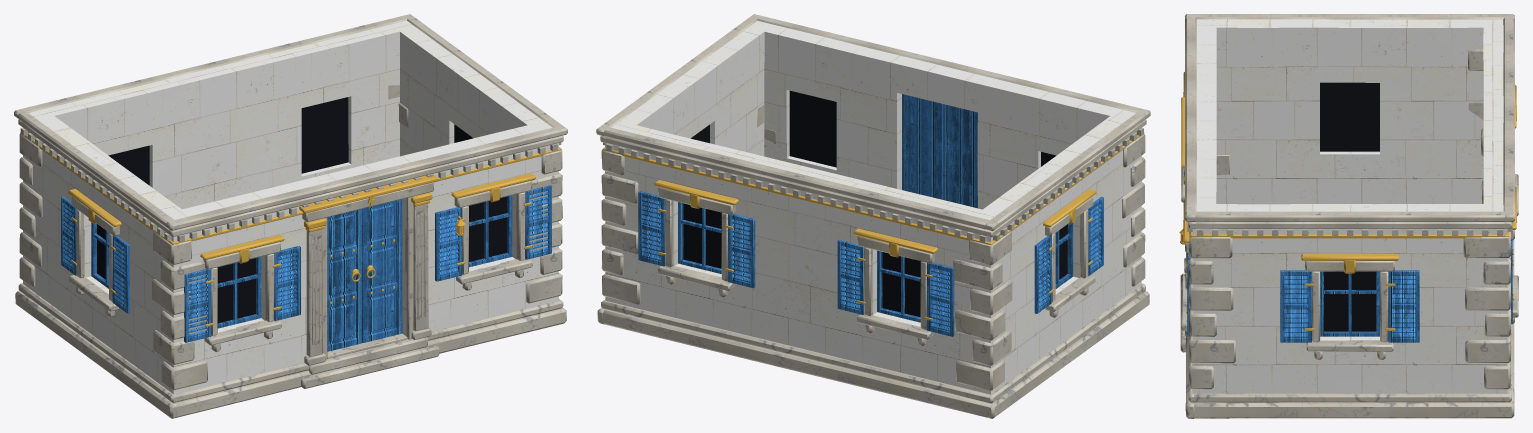
Rendered from home_villa-walls_t3_goldmarble.glb.
3 renders of one model, left to right at view 1: azimuth 30°, elevation 25°; view 2: azimuth 150°, elevation 25°; view 3: azimuth 270°, elevation 25°, orthographic. The views are drawn at different scales.
Visible parts, largest first — view 1: wall, marble, wood, base, interior, gold; view 2: wall, marble, wood, base, interior, gold; view 3: wall, marble, base, interior, wood, gold.
Part boxes in pixels (left/top/right/bottom): wall: left=23, top=20, right=558, bottom=393; marble: left=14, top=14, right=567, bottom=390; wood: left=61, top=185, right=551, bottom=351; base: left=15, top=283, right=566, bottom=418; interior: left=97, top=97, right=507, bottom=323; gold: left=20, top=132, right=561, bottom=326; wall: left=605, top=20, right=1141, bottom=394; marble: left=596, top=14, right=1150, bottom=390; wood: left=638, top=94, right=1103, bottom=336; base: left=597, top=283, right=1149, bottom=418; interior: left=683, top=90, right=1067, bottom=317; gold: left=602, top=132, right=1144, bottom=320; wall: left=1192, top=19, right=1507, bottom=393; marble: left=1180, top=14, right=1518, bottom=389; base: left=1185, top=239, right=1514, bottom=418; interior: left=1320, top=82, right=1379, bottom=331; wood: left=1187, top=240, right=1512, bottom=342; gold: left=1179, top=72, right=1516, bottom=330.
Bounding box in the file's own units: 6.5 × 3.01 × 4.53.
7 materials, 4 textured.
